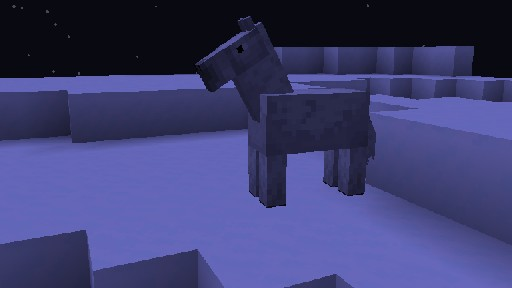horse: (193, 15, 382, 217)
